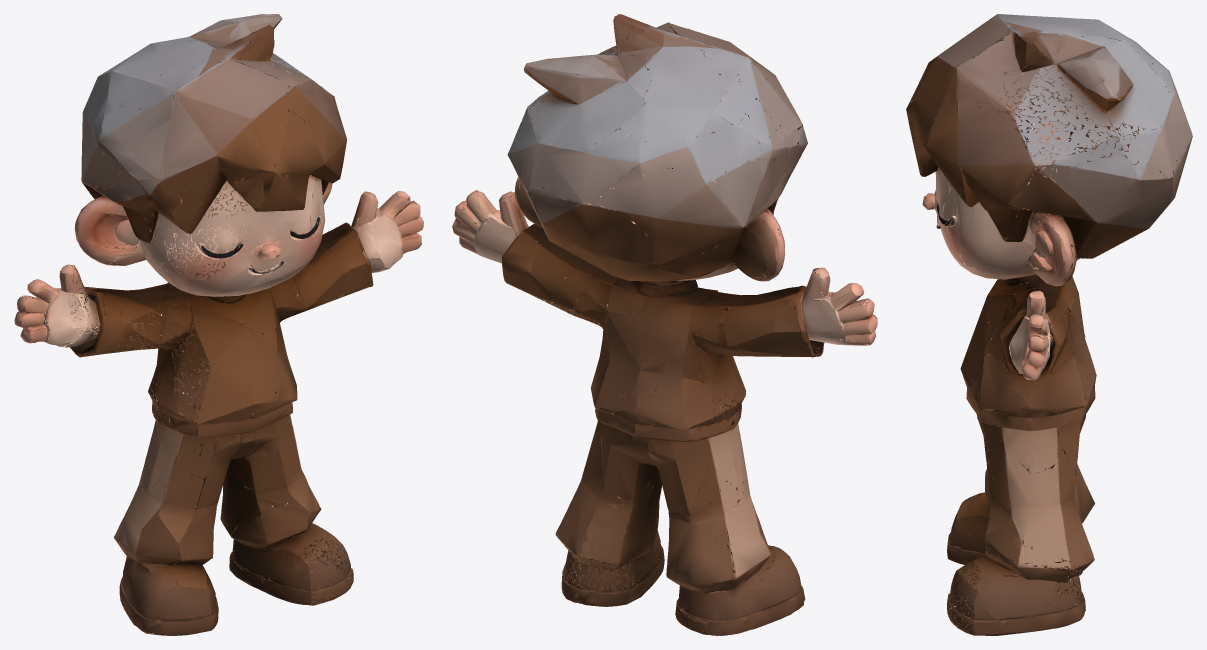
File: Brown.glb
The picture shows the model from 3 angles, left to right: view 1: azimuth 30°, elevation 25°; view 2: azimuth 150°, elevation 25°; view 3: azimuth 270°, elevation 25°; orthographic projection. The views are drawn at different scales.
Visible parts, largest first — view 1: node_0; view 2: node_0; view 3: node_0.
Part boxes in pixels (left/top/right/bottom): node_0: left=14, top=14, right=423, bottom=635; node_0: left=452, top=14, right=877, bottom=635; node_0: left=906, top=14, right=1192, bottom=635.
Bounding box in the file's own units: 0.8399 × 1.09 × 0.5013.
Materials: 1 (1 with a texture image).
